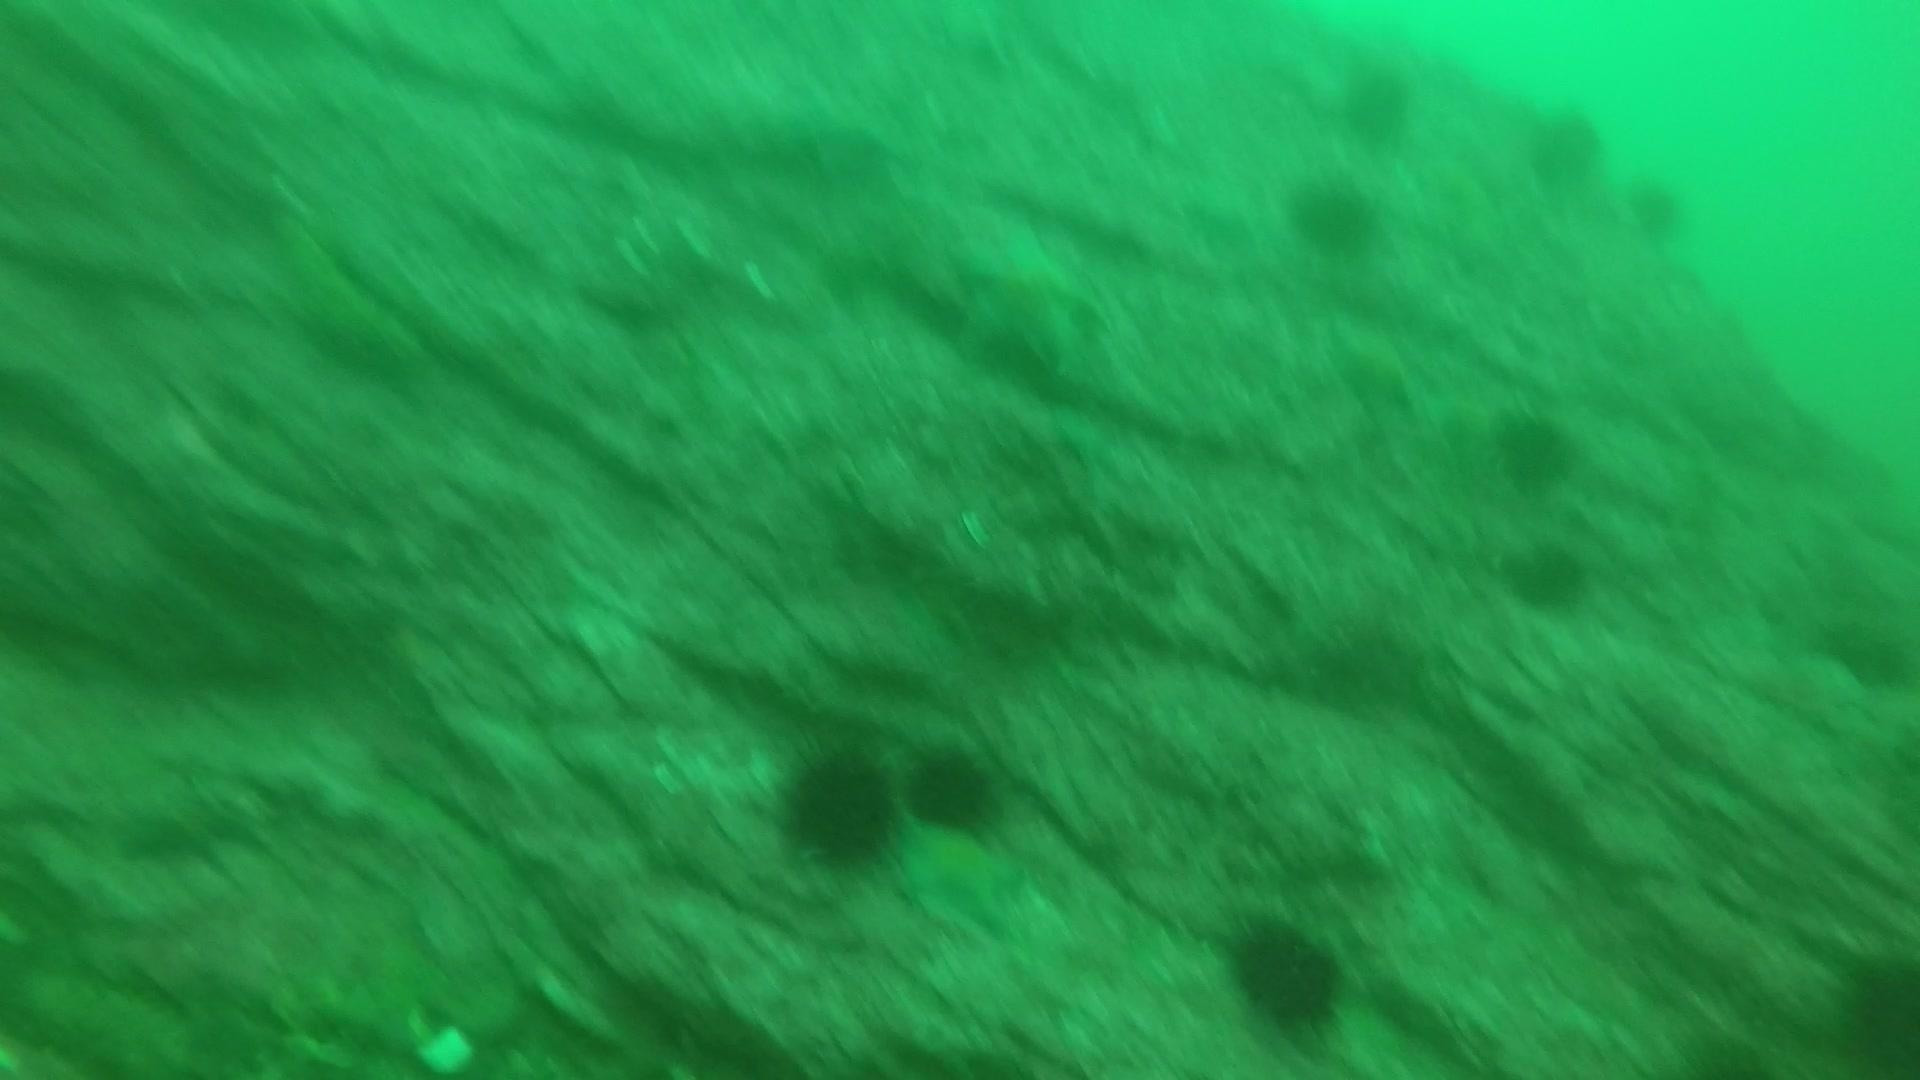echinus: (771, 738, 906, 872), (1220, 910, 1352, 1036), (1832, 942, 1919, 1076), (901, 738, 1004, 837), (1487, 404, 1582, 495), (1284, 171, 1382, 258), (1520, 100, 1609, 189), (1335, 55, 1419, 146), (1501, 535, 1596, 616), (1622, 171, 1691, 244)
starfish: (947, 219, 1097, 375), (889, 812, 1031, 934), (1323, 313, 1429, 419)
